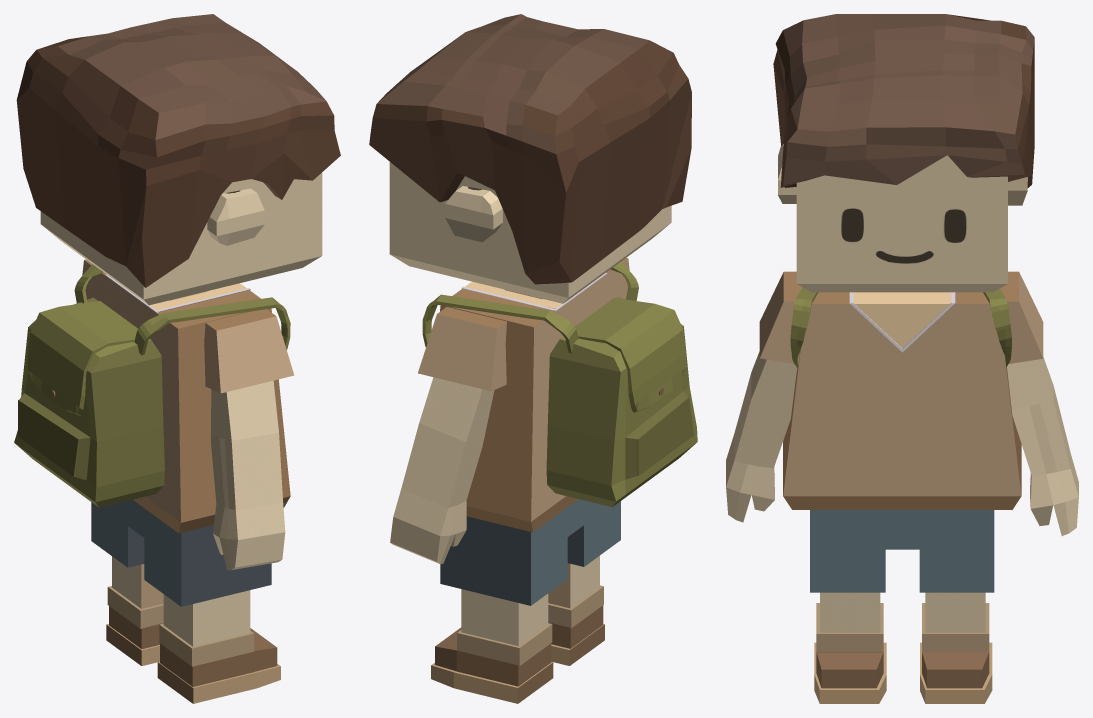
The model's file is character.fbx.
The picture shows the model from 3 angles, left to right: view 1: azimuth 30°, elevation 25°; view 2: azimuth 150°, elevation 25°; view 3: azimuth 270°, elevation 25°; orthographic projection. The views are drawn at different scales.
Visible parts, largest first — view 1: upper hair, backpack body, body, right arm, head, pants, backpack roof, right shoulder, right leg, r shoe, r ear.001, Cube.005 (+6 smaller); view 2: upper hair, backpack body, body, leftt arm, head, pants, backpack roof, left shoulder, left leg, l shoe, r ear, Cube.006 (+6 smaller); view 3: body, upper hair, head, pants, leftt arm, right arm, right shoulder, left shoulder, left leg, right leg, l shoe, r shoe (+6 smaller).
Part boxes in pixels (x1=…): upper hair: x1=16, y1=14, x2=340, y2=287; backpack body: x1=14, y1=297, x2=164, y2=507; body: x1=82, y1=259, x2=290, y2=533; right arm: x1=211, y1=380, x2=285, y2=570; head: x1=40, y1=172, x2=322, y2=305; pants: x1=91, y1=499, x2=271, y2=606; backpack roof: x1=28, y1=301, x2=137, y2=415; right shoulder: x1=204, y1=309, x2=294, y2=393; right leg: x1=163, y1=590, x2=250, y2=646; r shoe: x1=160, y1=628, x2=277, y2=686; r ear.001: x1=207, y1=188, x2=264, y2=245; Cube.005: x1=134, y1=297, x2=290, y2=355; upper hair: x1=369, y1=14, x2=691, y2=284; backpack body: x1=546, y1=297, x2=697, y2=507; body: x1=440, y1=258, x2=629, y2=532; leftt arm: x1=390, y1=377, x2=494, y2=564; head: x1=389, y1=162, x2=671, y2=303; pants: x1=440, y1=499, x2=620, y2=605; backpack roof: x1=575, y1=298, x2=686, y2=412; left shoulder: x1=418, y1=307, x2=506, y2=391; left leg: x1=461, y1=589, x2=548, y2=646; l shoe: x1=435, y1=627, x2=551, y2=686; r ear: x1=445, y1=186, x2=502, y2=242; Cube.006: x1=422, y1=294, x2=578, y2=353; body: x1=783, y1=292, x2=1021, y2=509; upper hair: x1=773, y1=14, x2=1034, y2=187; head: x1=796, y1=155, x2=1007, y2=292; pants: x1=810, y1=510, x2=994, y2=592; leftt arm: x1=1007, y1=357, x2=1078, y2=535; right arm: x1=726, y1=351, x2=796, y2=522; right shoulder: x1=759, y1=271, x2=802, y2=364; left shoulder: x1=1000, y1=271, x2=1043, y2=363; left leg: x1=925, y1=592, x2=985, y2=632; right leg: x1=820, y1=592, x2=880, y2=632; l shoe: x1=922, y1=652, x2=989, y2=688; r shoe: x1=816, y1=652, x2=883, y2=688.
Size of the model in its own units: 270 by 659 by 334.
